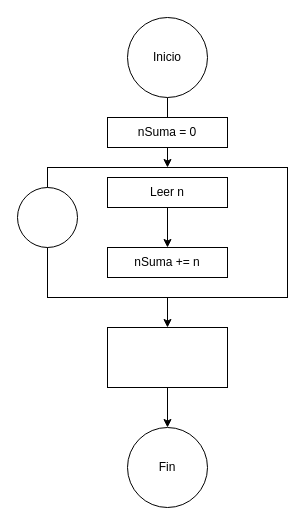
Some shapes in this 305 by 525 pixel diagram are drawn without their labels. Here are the shapes that lost their labels. From the top down, the centre of each, then its label:
At pixel 47 217: "x = 0 x < 100 x ++".
At pixel 167 357: "Leer nSuma".
